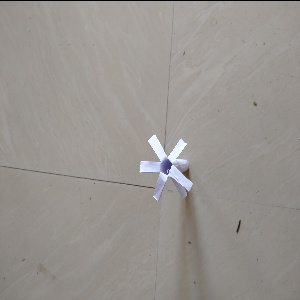weed: (137, 131, 198, 204)
